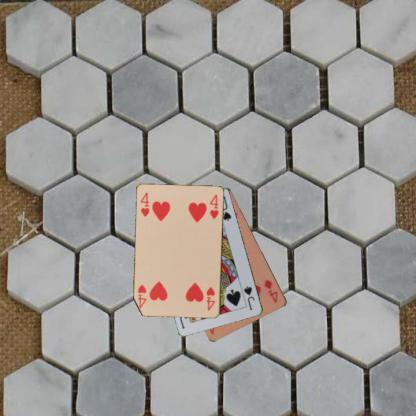4d: (262, 276, 280, 305)
4h: (204, 284, 216, 312), (138, 190, 150, 218)
Js: (242, 284, 256, 311)
